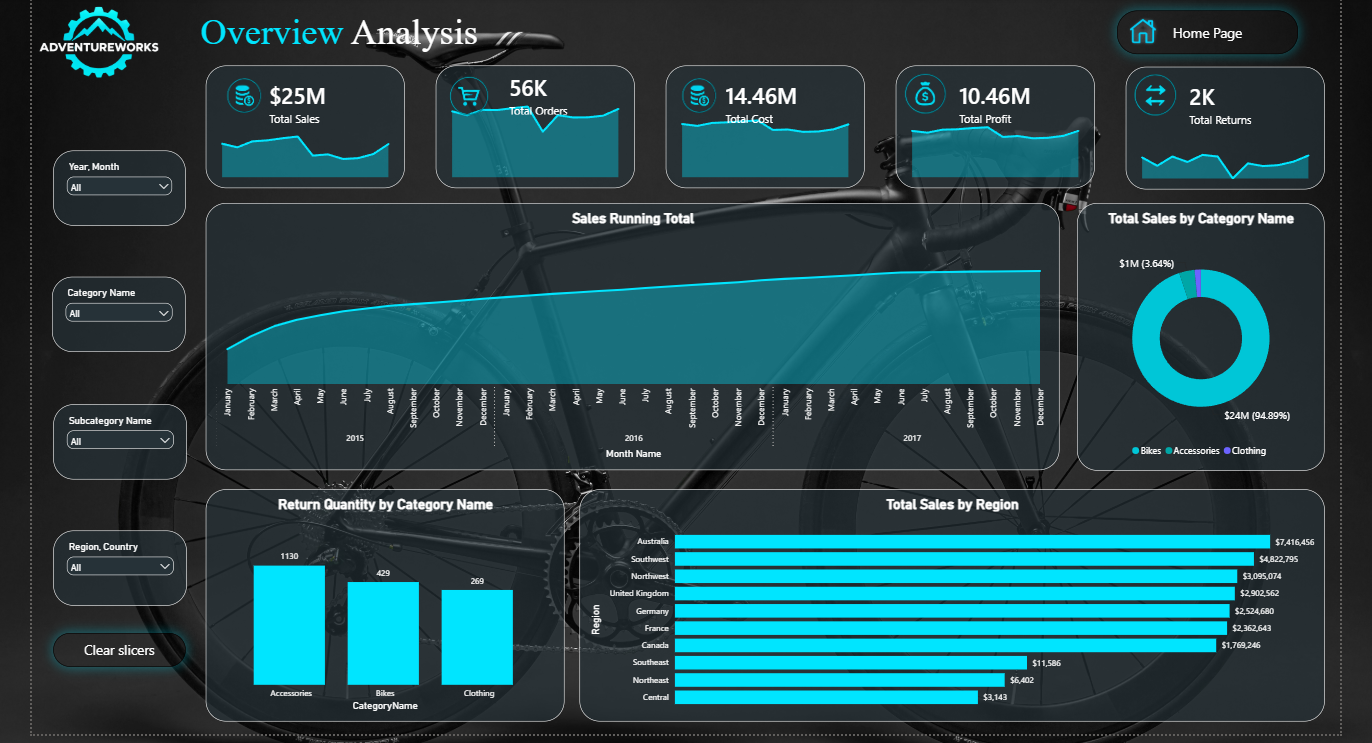

What the dashboard file says about the page in this screenshot:
{"tool":"powerbi","page":{"name":"OverView","canvas":[1920,1080],"ordinal":1},"visuals":[{"type":"lineChart","fields":{"Category":["Calendar Table.Month Name"],"Y":["Sales.Total Order"]},"box":[592.5,99,291.6,179.8],"z":0},{"type":"lineChart","fields":{"Category":["Calendar Table.Month Name"],"Y":["Sales.Total Sales"]},"box":[255,99,291.6,179.8],"z":1000},{"type":"textbox","box":[242.1,14.7,438.4,71.5],"z":2000},{"type":"image","box":[0,0,196.3,128.4],"z":3000},{"type":"cardVisual","fields":{"Data":["Sales.Total Sales"]},"box":[319.2,99,185.3,110.1],"z":4000},{"type":"cardVisual","fields":{"Data":["Sales.Total Order"]},"box":[671.6,97.2,150.4,91.7],"z":5000},{"type":"lineChart","fields":{"Category":["Calendar Table.Month Name"],"Y":["Sales.Total Profit"]},"box":[1267.5,99,291.6,179.8],"z":6000},{"type":"cardVisual","fields":{"Data":["Sales.Total Profit"]},"box":[1332.6,98.5,169.4,110.3],"z":7000},{"type":"lineChart","fields":{"Category":["Calendar Table.Month Name"],"Y":["Sales.Total Returns"]},"box":[1605,100.9,291.6,179.8],"z":8000},{"type":"cardVisual","fields":{"Data":["Sales.Total Returns"]},"box":[1669.2,100.9,165.1,110.1],"z":9000},{"type":"lineChart","fields":{"Category":["Calendar Table.Month Name"],"Y":["Sales.Total Cost"]},"box":[930,99,291.6,179.8],"z":10000},{"type":"cardVisual","fields":{"Data":["Sales.Total Cost"]},"box":[989.3,99,176.1,110.1],"z":11000},{"type":"lineChart","title":"Sales Running Total ","fields":{"Category":["Calendar Table.Year","Calendar Table.Month Name"],"Y":["Sales.Total Sales running total in Date"]},"box":[254.1,301.4,1252.7,392],"z":12000},{"type":"image","box":[254.1,94.5,116.2,94.5],"z":13000},{"type":"image","box":[1257.6,94.5,116.2,94.5],"z":14000},{"type":"image","box":[588.6,94.5,116.2,94.5],"z":15000},{"type":"image","box":[1592.1,97.2,116.2,94.5],"z":16000},{"type":"image","box":[923.1,94.5,116.2,94.5],"z":17000},{"type":"donutChart","title":"Total Sales by Category Name","fields":{"Category":["Product_Categories.CategoryName"],"Y":["Sales.Total Sales"]},"box":[1533.4,300.8,363.2,392.5],"z":18000},{"type":"columnChart","title":"Return Quantity by Category Name","fields":{"Category":["Product_Categories.CategoryName"],"Y":["Sum(Returns.ReturnQuantity)"]},"box":[255,720.9,526.4,341.2],"z":19000},{"type":"barChart","fields":{"Category":["Territories.Region"],"Y":["Sales.Total Sales"]},"box":[803.4,720.9,1093.2,341.2],"z":20000},{"type":"slicer","fields":{"Values":["Calendar Table.Year","Calendar Table.Month Name"]},"box":[31.2,223.8,194.4,110.1],"z":21000},{"type":"slicer","fields":{"Values":["Product_Categories.CategoryName"]},"box":[29.3,409.6,196.3,110.1],"z":22000},{"type":"slicer","fields":{"Values":["Product_Subcategories.SubcategoryName"]},"box":[30.4,595.5,196.3,110.1],"z":23000},{"type":"slicer","fields":{"Values":["Territories.Region","Territories.Country"]},"box":[31.2,781.4,196.3,110.1],"z":24000},{"type":"actionButton","box":[31.2,931.8,194.4,49.5],"z":25000},{"type":"actionButton","box":[1592.1,18.3,266,64.2],"z":26000},{"type":"image","box":[1592.1,18.3,77,58.7],"z":26001}]}

Visuals, with their boxes on the page's 1920x1080 design canvas (x1, y1, x2, y2). These are canvas units, not pixel positions in the 1372x743 screenshot, which may show the page scaled, cropped or inside an application window:
lineChart - Calendar Table.Month Name x Sales.Total Order: (592,99,884,279)
lineChart - Calendar Table.Month Name x Sales.Total Sales: (255,99,547,279)
textbox: (242,15,680,86)
image: (0,0,196,128)
cardVisual - Sales.Total Sales: (319,99,504,209)
cardVisual - Sales.Total Order: (672,97,822,189)
lineChart - Calendar Table.Month Name x Sales.Total Profit: (1268,99,1559,279)
cardVisual - Sales.Total Profit: (1333,98,1502,209)
lineChart - Calendar Table.Month Name x Sales.Total Returns: (1605,101,1897,281)
cardVisual - Sales.Total Returns: (1669,101,1834,211)
lineChart - Calendar Table.Month Name x Sales.Total Cost: (930,99,1222,279)
cardVisual - Sales.Total Cost: (989,99,1165,209)
"Sales Running Total " lineChart: (254,301,1507,693)
image: (254,94,370,189)
image: (1258,94,1374,189)
image: (589,94,705,189)
image: (1592,97,1708,192)
image: (923,94,1039,189)
"Total Sales by Category Name" donutChart: (1533,301,1897,693)
"Return Quantity by Category Name" columnChart: (255,721,781,1062)
barChart - Territories.Region x Sales.Total Sales: (803,721,1897,1062)
slicer - Calendar Table.Year x Calendar Table.Month Name: (31,224,226,334)
slicer - Product_Categories.CategoryName: (29,410,226,520)
slicer - Product_Subcategories.SubcategoryName: (30,596,227,706)
slicer - Territories.Region x Territories.Country: (31,781,228,892)
actionButton: (31,932,226,981)
actionButton: (1592,18,1858,82)
image: (1592,18,1669,77)
